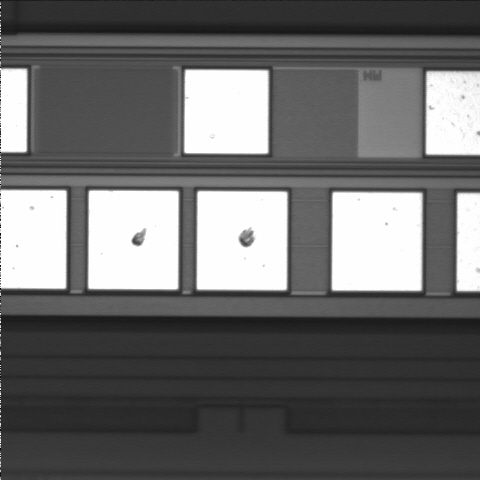pad: (88, 191, 179, 289), (197, 191, 287, 290), (332, 192, 422, 291), (184, 70, 268, 154)
